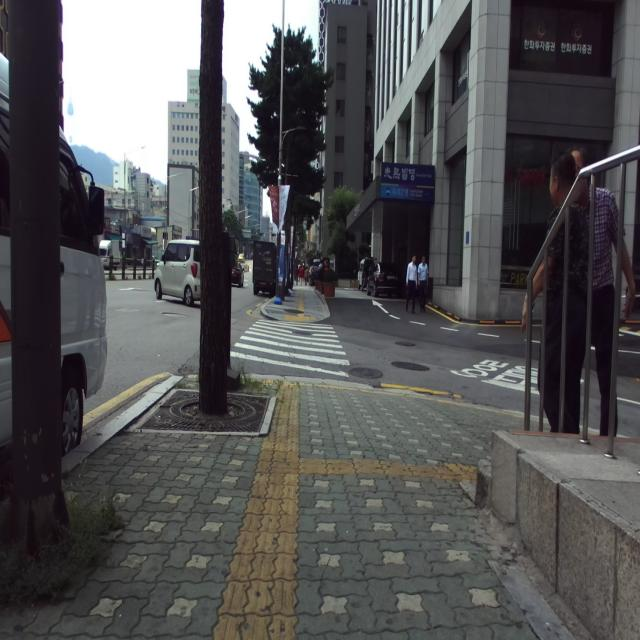횡단보도: (230, 319, 350, 377)
